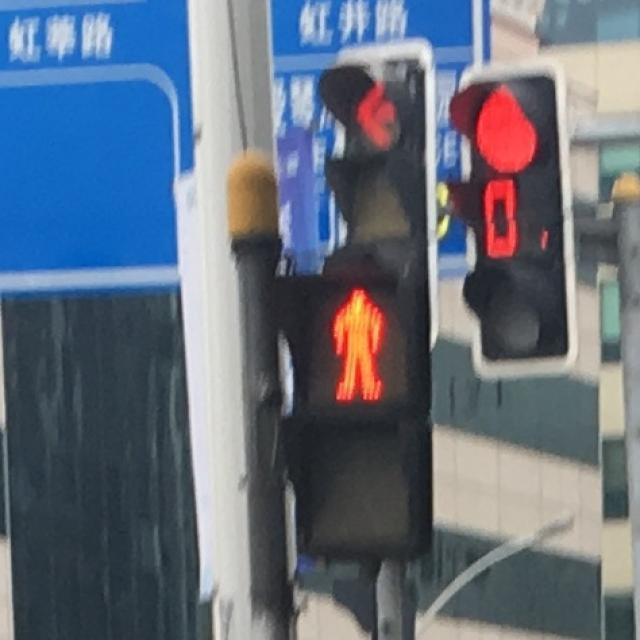red-crossing: (301, 284, 408, 406)
